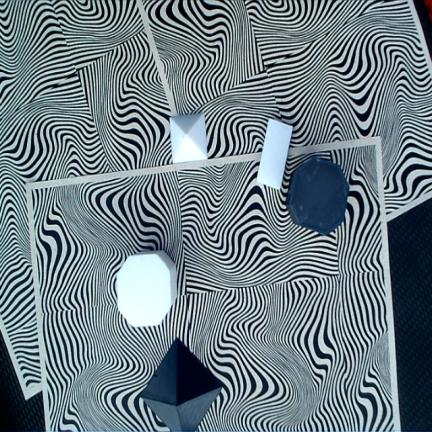Paralelepipedo: (257, 119, 293, 189)
Piramide: (140, 338, 223, 431), (170, 113, 208, 164)
Prisma_hexagonal: (116, 250, 177, 328), (287, 158, 348, 234)
